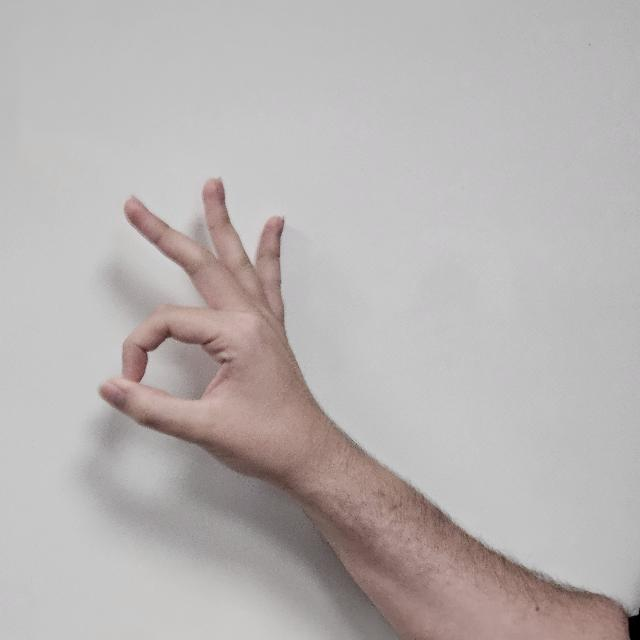Bolinha: (69, 164, 323, 466)
